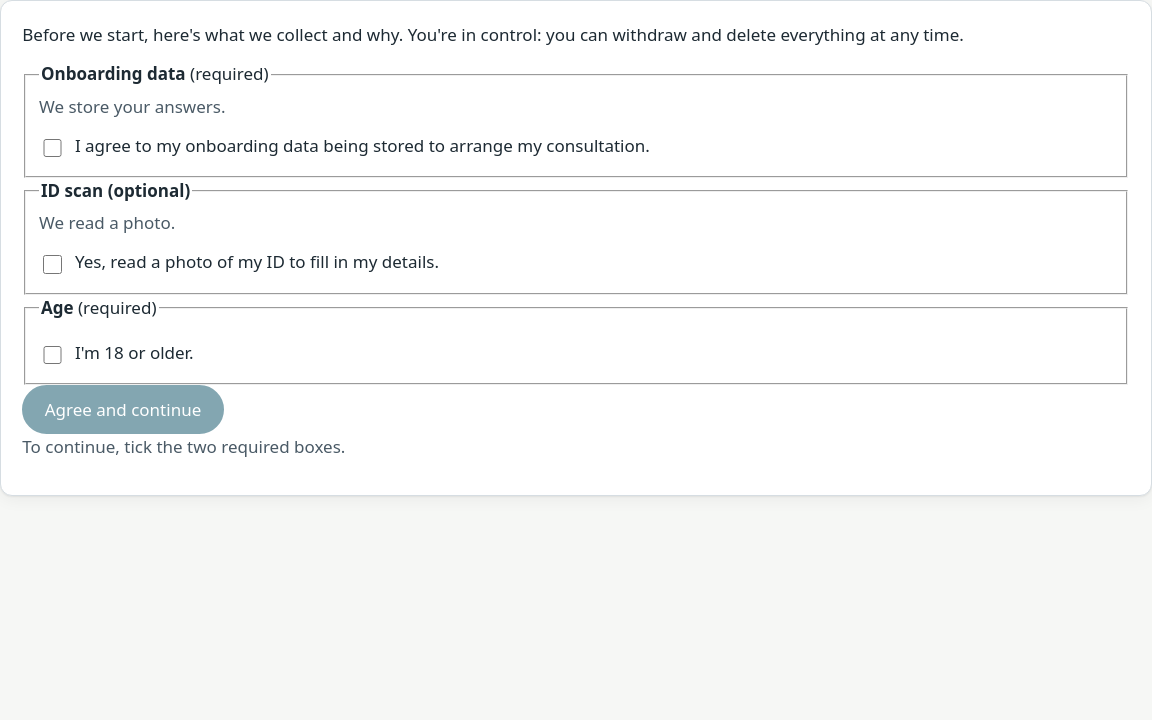
it: ConsentStep › shows the server reason when consent is rejected
What coordinates should you click on to do the following:
click the checkbox labelled "onboarding data being stored"
I would click on:
 (52, 148)
Its box is [43,139,62,157].
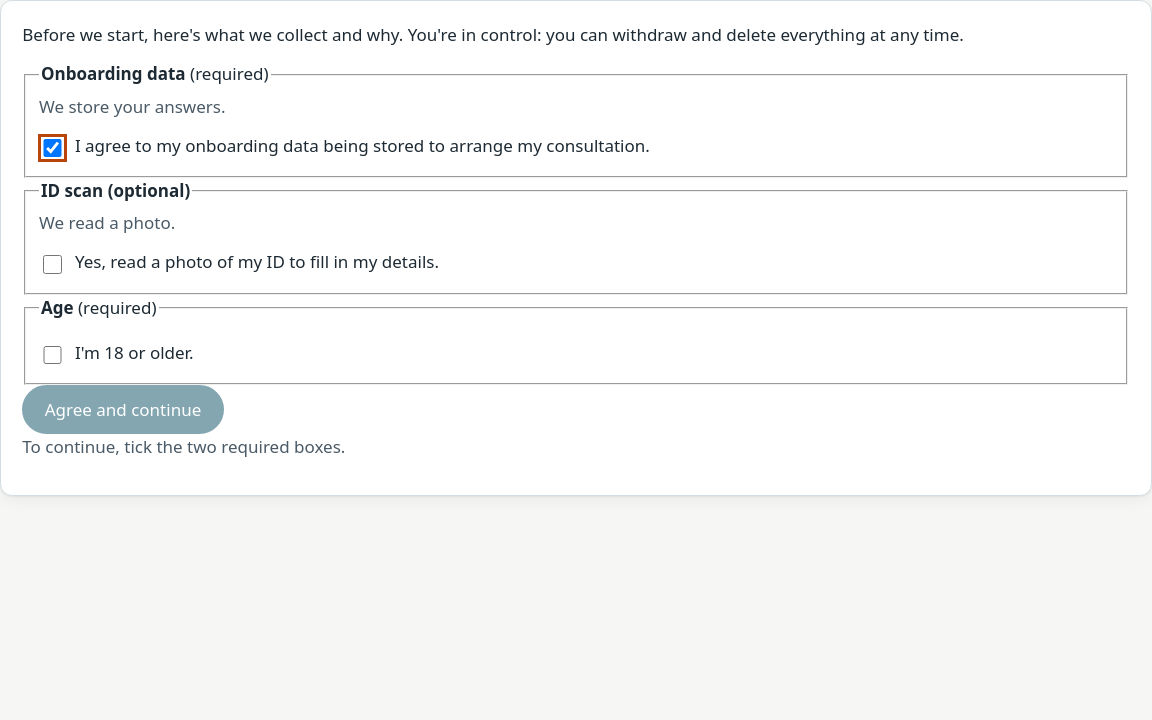
What coordinates should you click on to do the following:
click the checkbox labelled "I'm 18 or older."
I would click on:
 (52, 355)
Its box is [43,346,62,364].
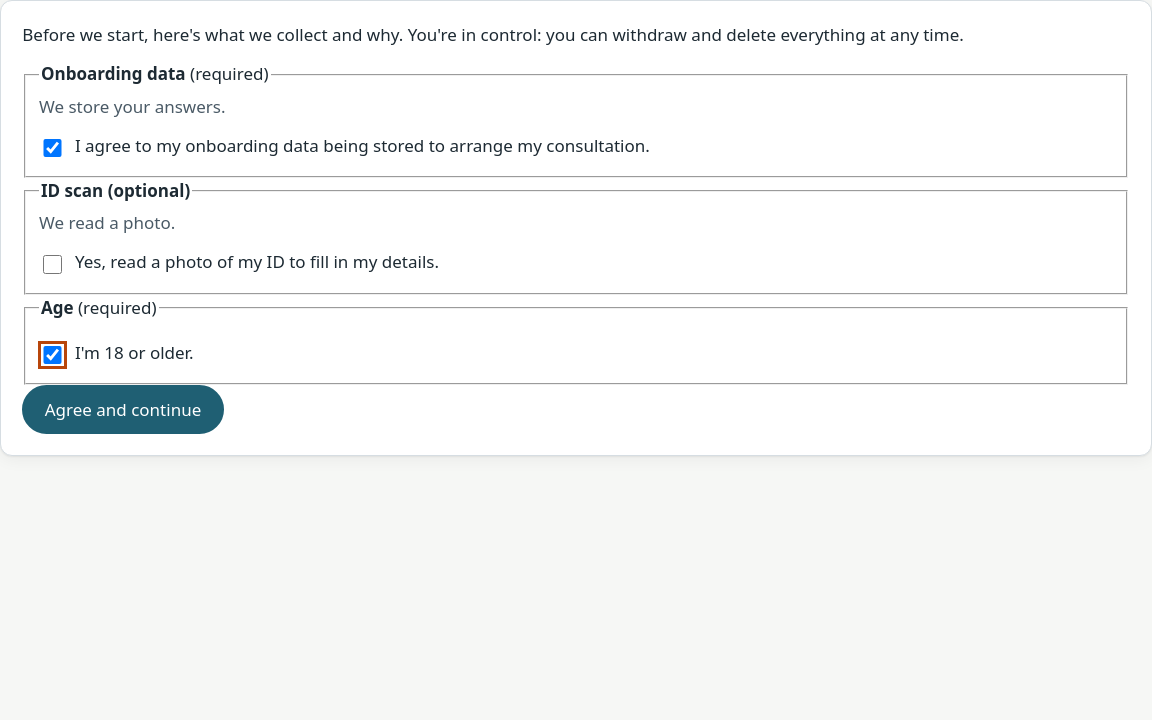
What coordinates should you click on to do the following:
click the button "Agree and continue"
I would click on:
 (123, 410)
Its box is [22,385,224,434].
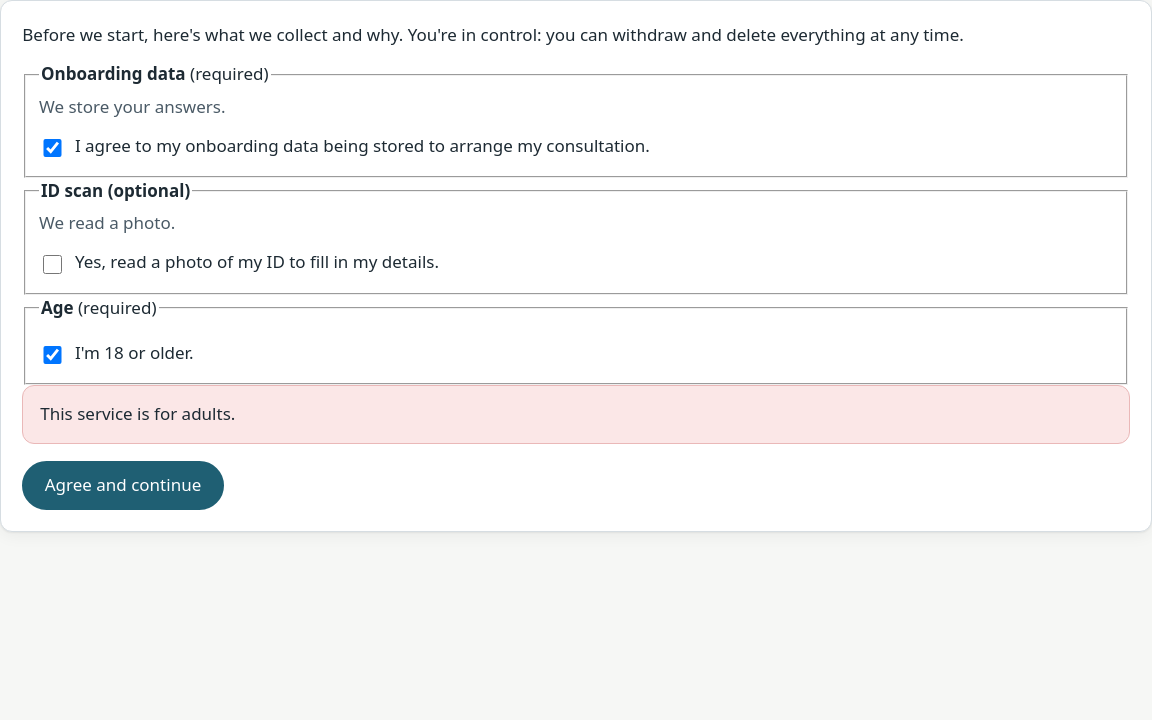
Result: the message shows "adults" at [40,402,235,426]
